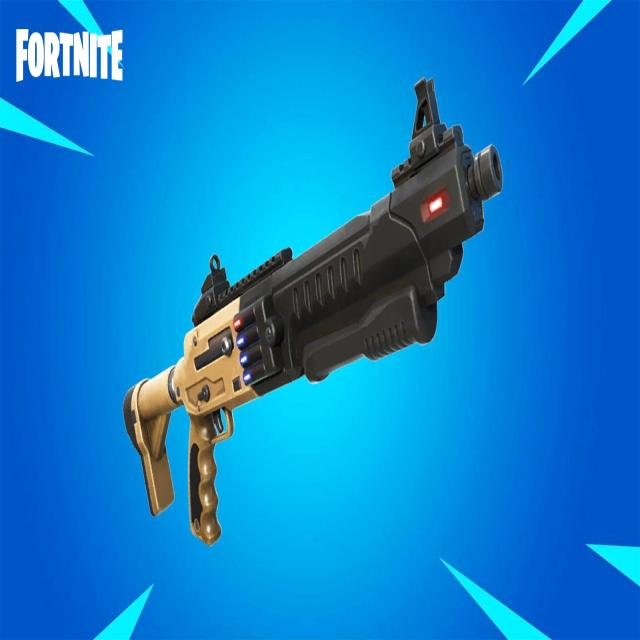shotgun: (64, 83, 552, 562)
